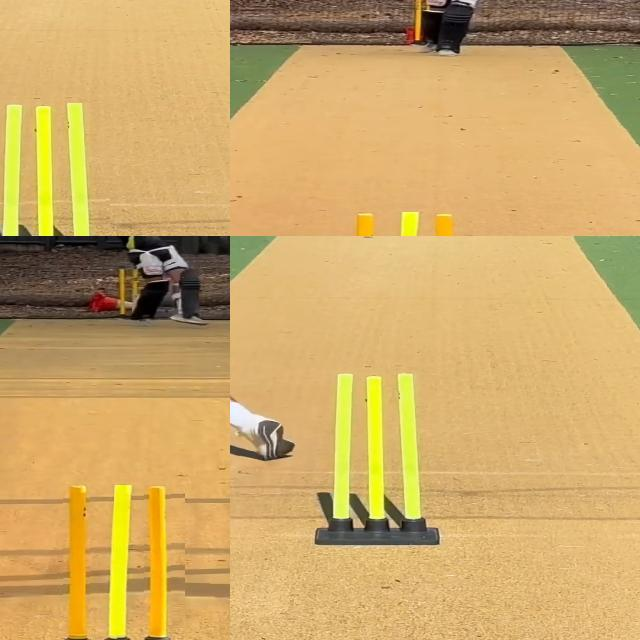Stumps: (49, 485, 184, 640), (326, 371, 429, 548), (0, 102, 109, 236)
